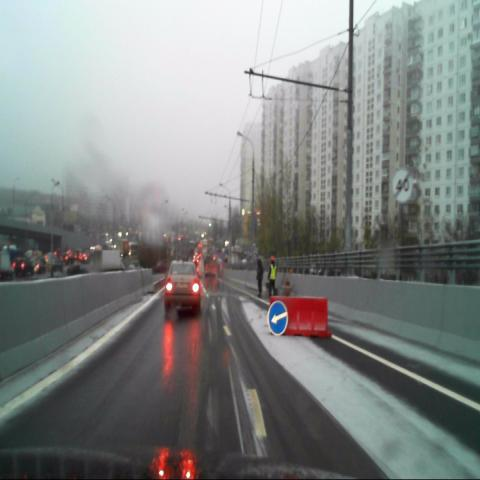3_25: (392, 168, 412, 203)
